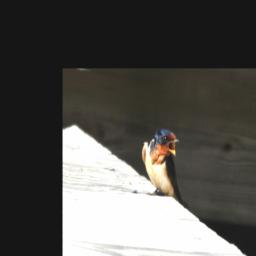Swallow: (137, 122, 187, 200)
